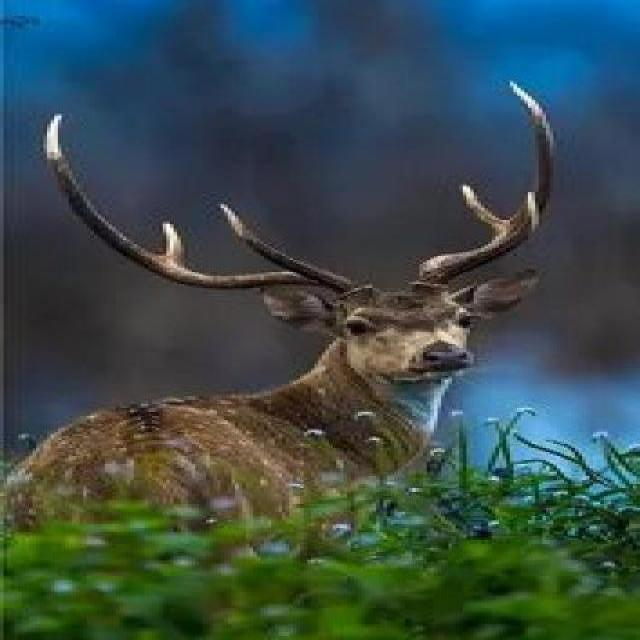deer: (30, 173, 633, 552)
